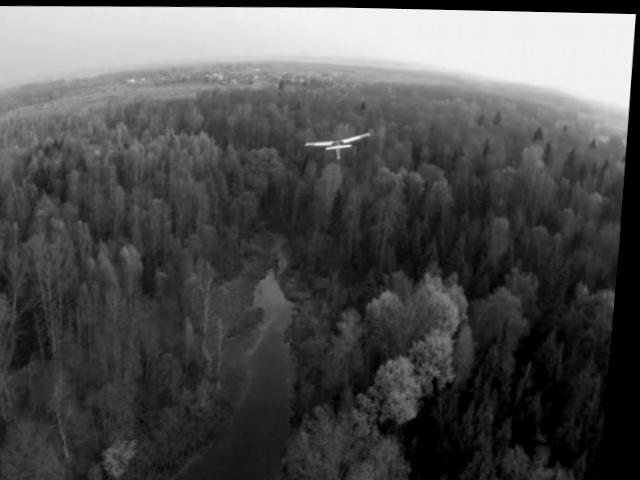hedef: (300, 121, 378, 167)
